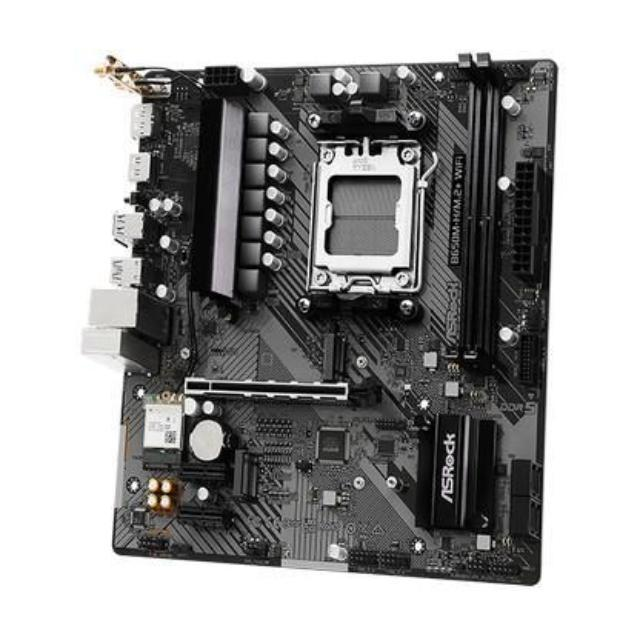Mainboard: (79, 45, 567, 590)
